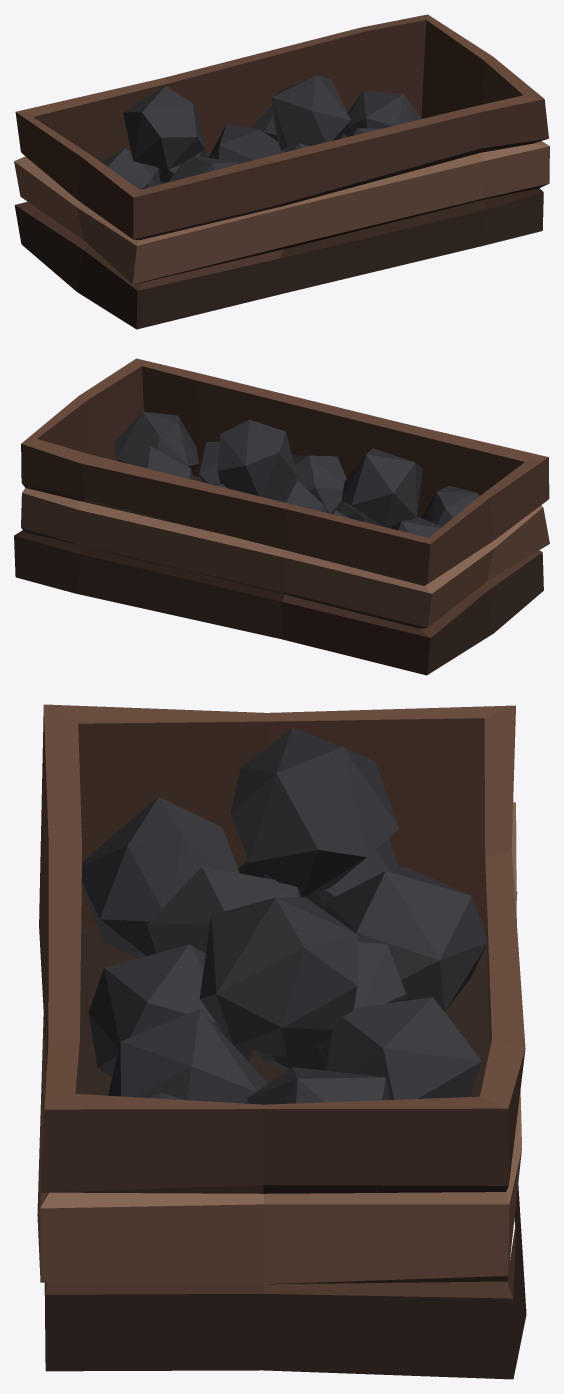
File: Cannonball_03.glb
3 renders of one model, top to bottom at view 1: azimuth 30°, elevation 25°; view 2: azimuth 150°, elevation 25°; view 3: azimuth 270°, elevation 25°, orthographic. The views are drawn at different scales.
Visible parts, largest first — view 1: CannonBall_03; view 2: CannonBall_03; view 3: CannonBall_03.
Part boxes in pixels (x1,y1,x2,y2): CannonBall_03: (14,14,549,329); CannonBall_03: (14,358,549,675); CannonBall_03: (37,704,526,1379).
Size of what is drawn, in the model's own units: 1.32 by 0.5012 by 0.6669.
1 material, 1 textured.
